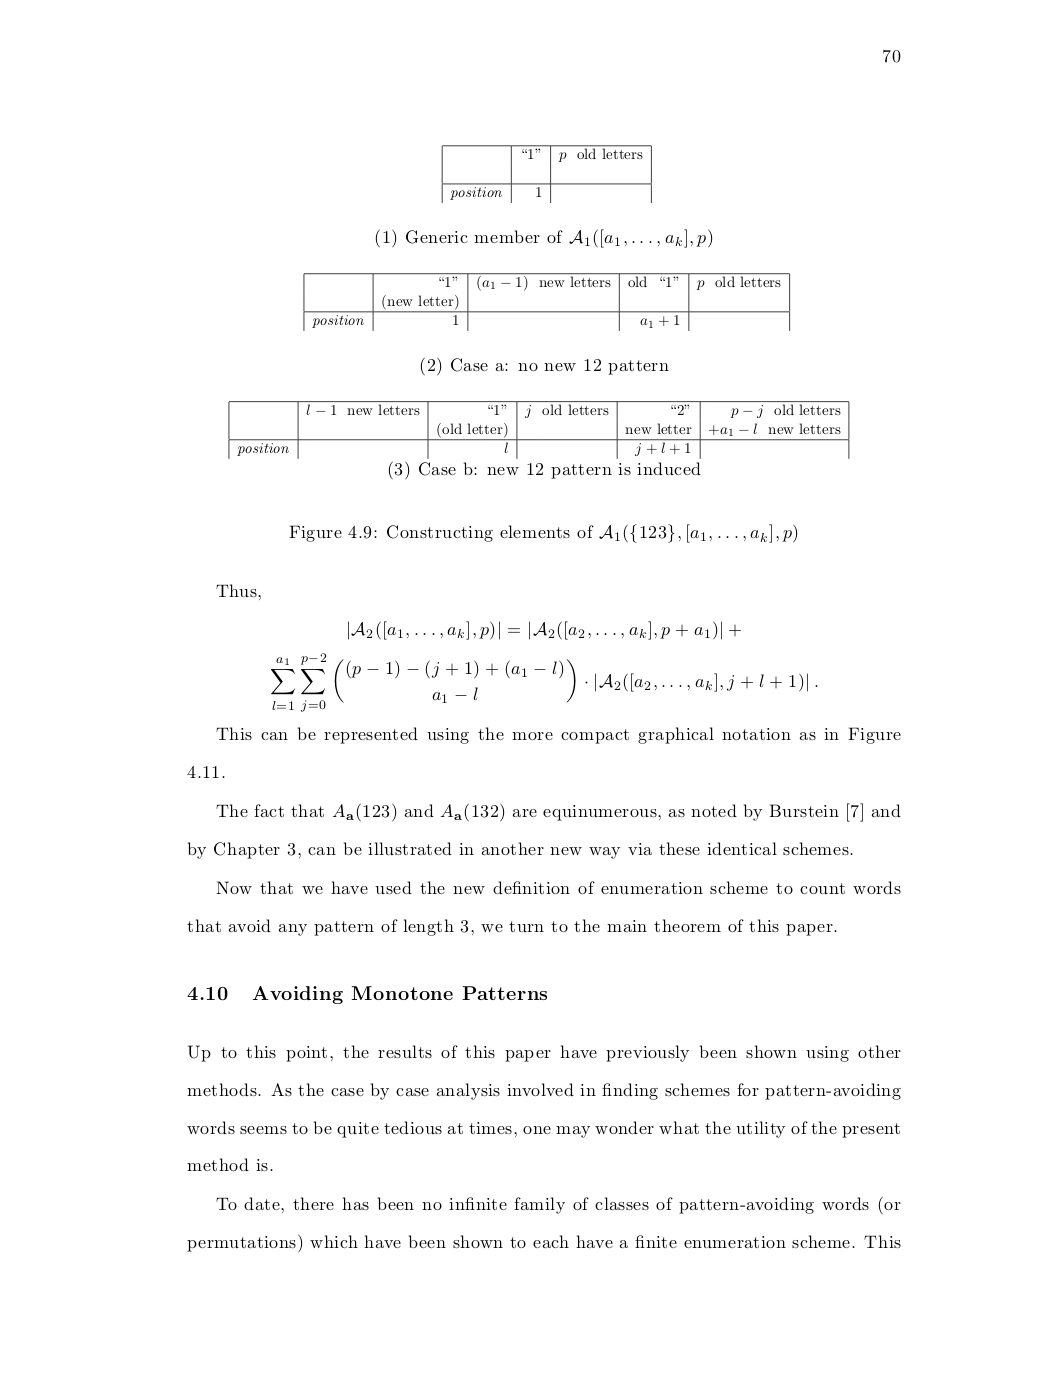Table: (228, 400, 849, 480), (303, 272, 790, 331), (441, 144, 651, 203)
formula: (271, 652, 817, 712), (348, 620, 740, 640)
